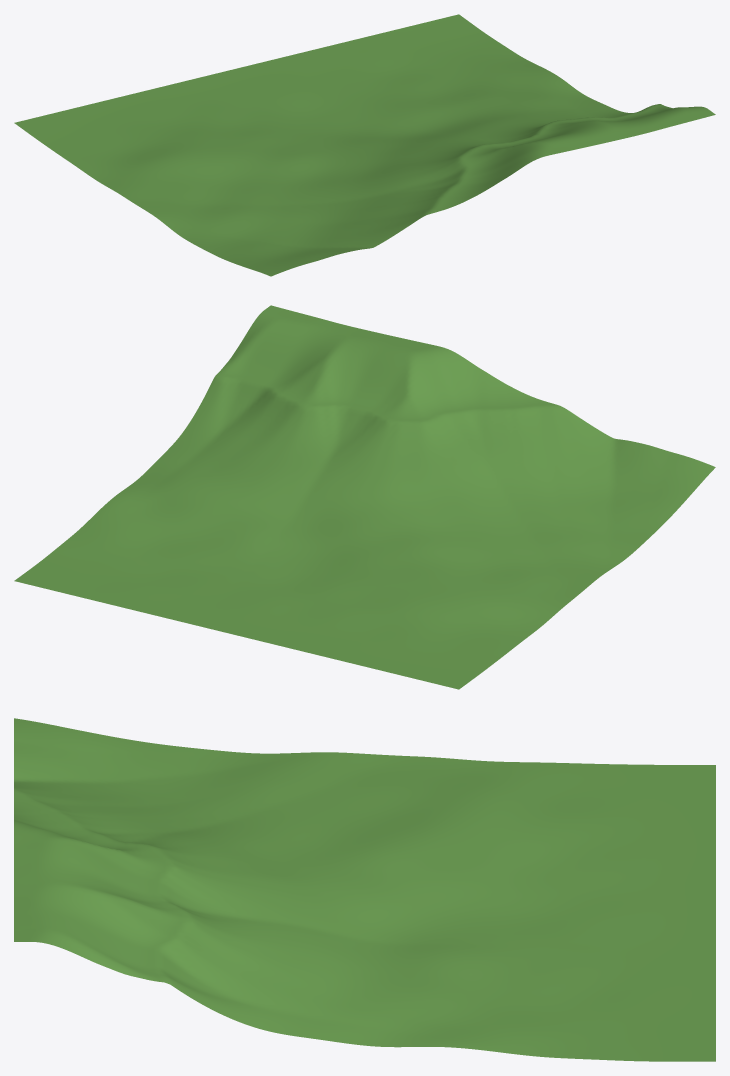
File: SM_Terrain_03_00.fbx
The picture shows the model from 3 angles, top to bottom: view 1: azimuth 30°, elevation 25°; view 2: azimuth 150°, elevation 25°; view 3: azimuth 270°, elevation 25°; orthographic projection. The views are drawn at different scales.
Parts seen in each view (by area): view 1: SM_Terrain_03_00; view 2: SM_Terrain_03_00; view 3: SM_Terrain_03_00.
Part boxes in pixels (x1,y1,x2,y2): SM_Terrain_03_00: (14, 14, 715, 276); SM_Terrain_03_00: (14, 305, 715, 689); SM_Terrain_03_00: (14, 718, 715, 1061).
Size of the model in its own units: 384 by 72.3 by 384.
